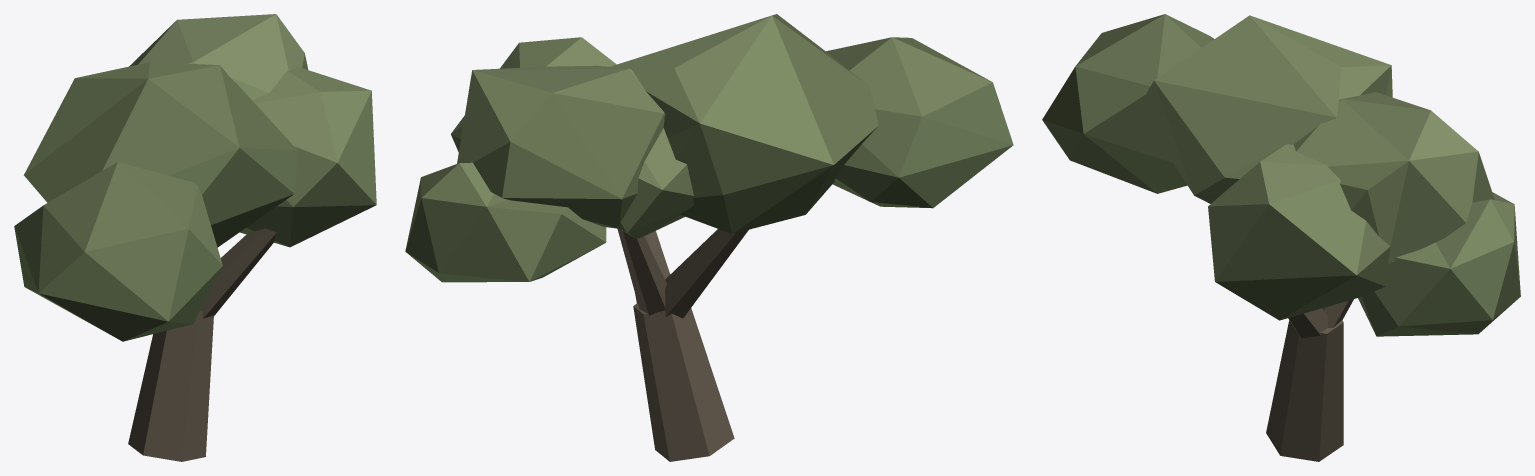
Rendered from olive_2.glb.
3 renders of one model, left to right at view 1: azimuth 30°, elevation 25°; view 2: azimuth 150°, elevation 25°; view 3: azimuth 270°, elevation 25°, orthographic. The views are drawn at different scales.
Parts seen in each view (by area): view 1: trunk; view 2: trunk; view 3: trunk.
Part boxes in pixels (x1=…): trunk: x1=14, y1=14, x2=376, y2=461; trunk: x1=405, y1=14, x2=1013, y2=461; trunk: x1=1042, y1=14, x2=1520, y2=461.
Bounding box in the file's own units: 3.98 × 3.67 × 3.89.
